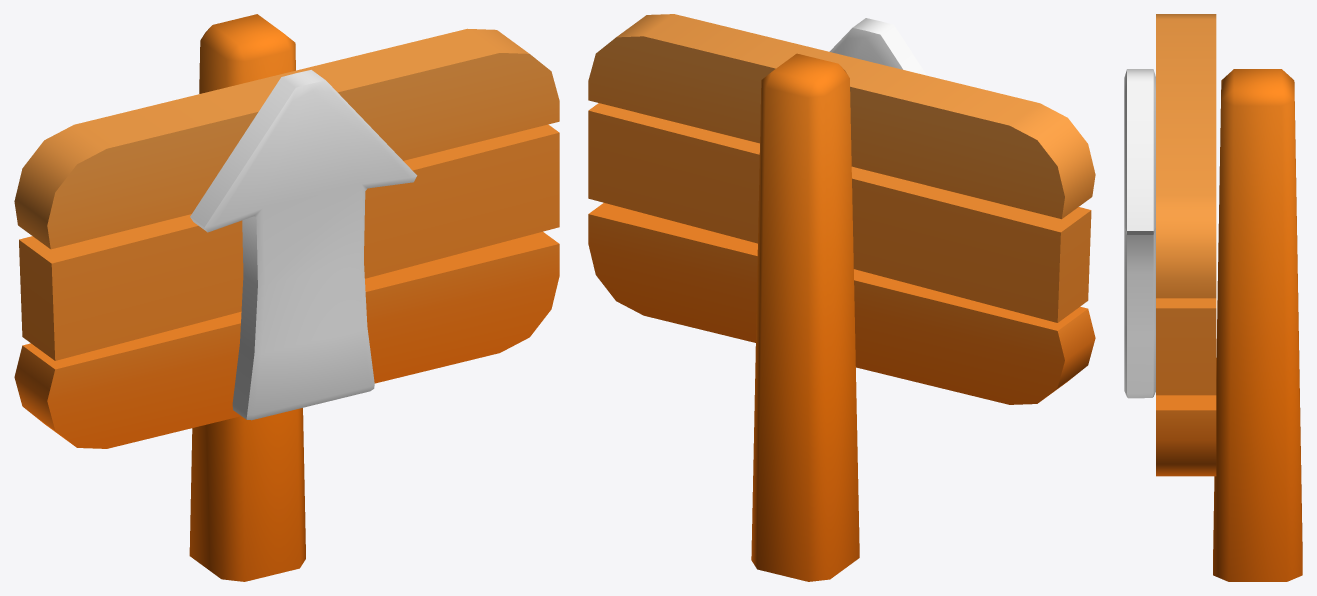
File: Props_Wooden_Sign_03.glb
3 views of the same model, side by side, from view 1: azimuth 30°, elevation 25°; view 2: azimuth 150°, elevation 25°; view 3: azimuth 270°, elevation 25° (orthographic). The views are drawn at different scales.
Visible parts, largest first — view 1: Props_Wooden_Sign_03; view 2: Props_Wooden_Sign_03; view 3: Props_Wooden_Sign_03.
Part boxes in pixels (x1,y1,x2,y2): Props_Wooden_Sign_03: (14, 14, 559, 581); Props_Wooden_Sign_03: (588, 14, 1095, 581); Props_Wooden_Sign_03: (1124, 14, 1302, 581).
Bounding box in the file's own units: 0.9011 × 0.888 × 0.2965.
Materials: 1 (1 with a texture image).
